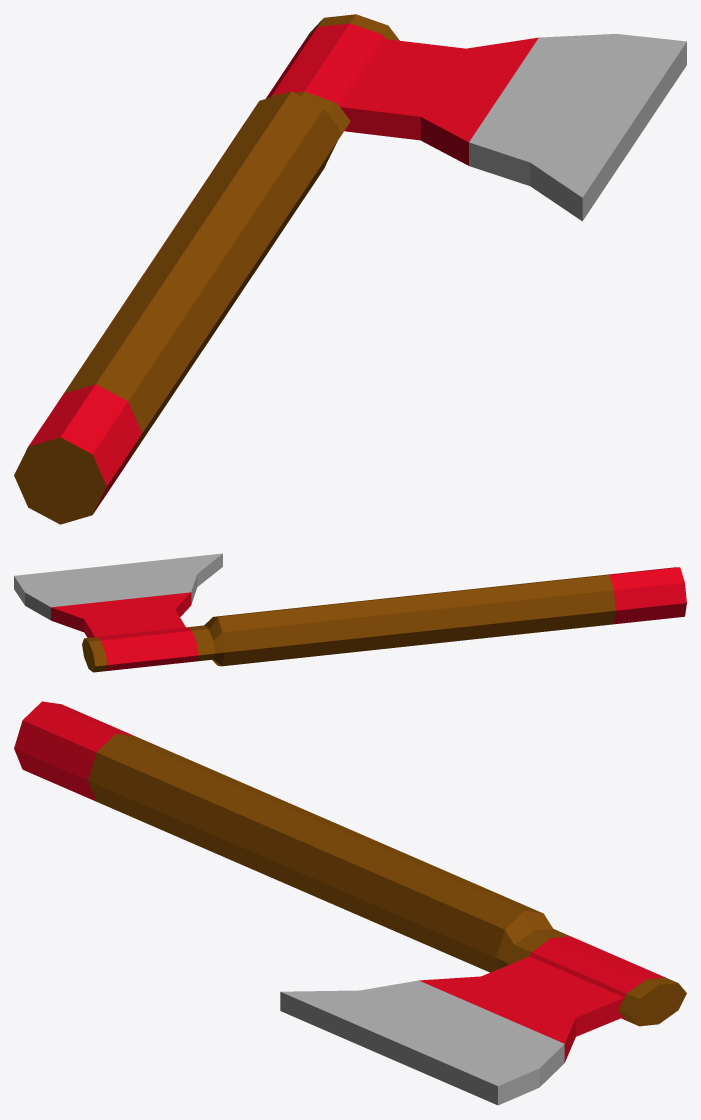
Rendered from hachebouge.fbx.
The picture shows the model from 3 angles, top to bottom: view 1: azimuth 30°, elevation 25°; view 2: azimuth 150°, elevation 25°; view 3: azimuth 270°, elevation 25°; orthographic projection. The views are drawn at different scales.
Parts seen in each view (by area): view 1: Cube; view 2: Cube; view 3: Cube.
Boxes of the visible parts, x1=… form: Cube: x1=14, y1=14, x2=686, y2=524; Cube: x1=14, y1=553, x2=686, y2=672; Cube: x1=14, y1=701, x2=686, y2=1105.
Bounding box in the file's own units: 502 × 44.8 × 385.
